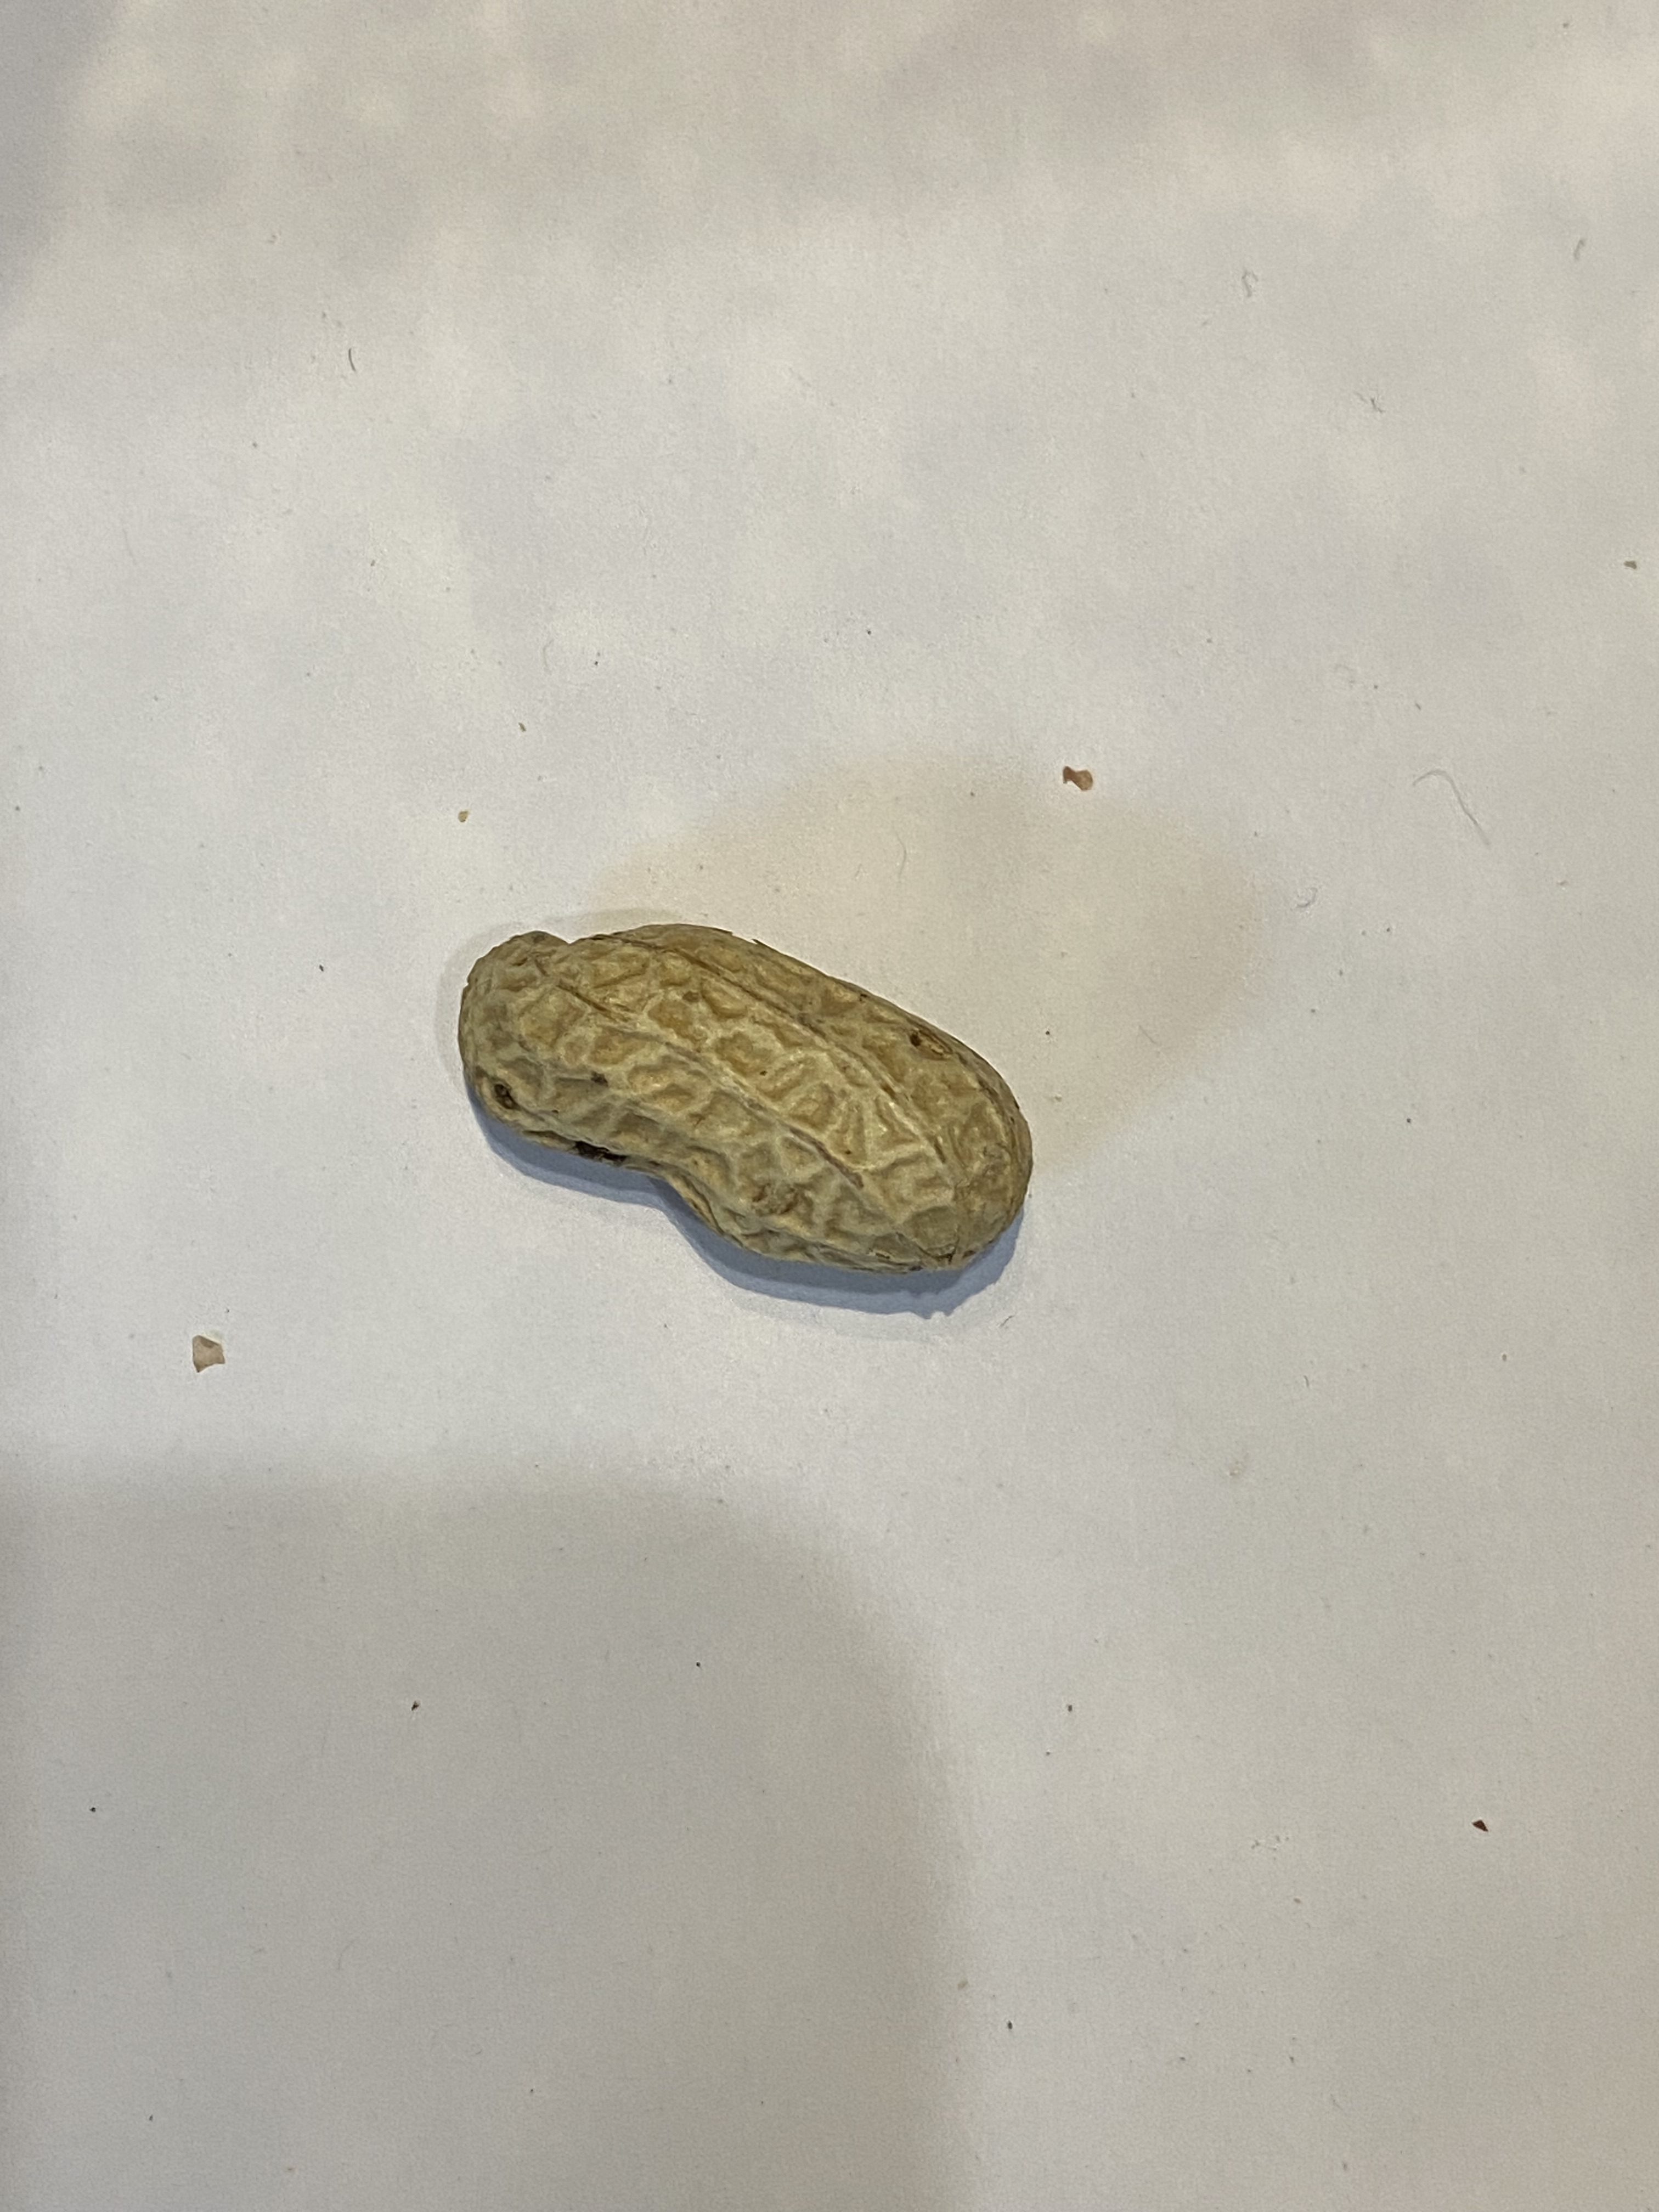kacang2: (439, 904, 1051, 1287)
